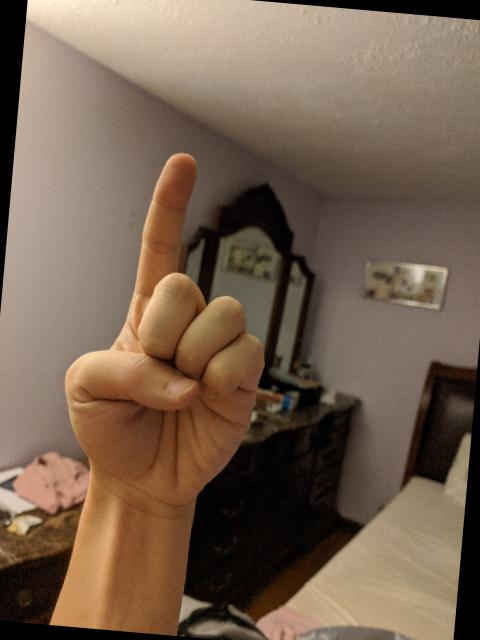D: (51, 140, 287, 512)
